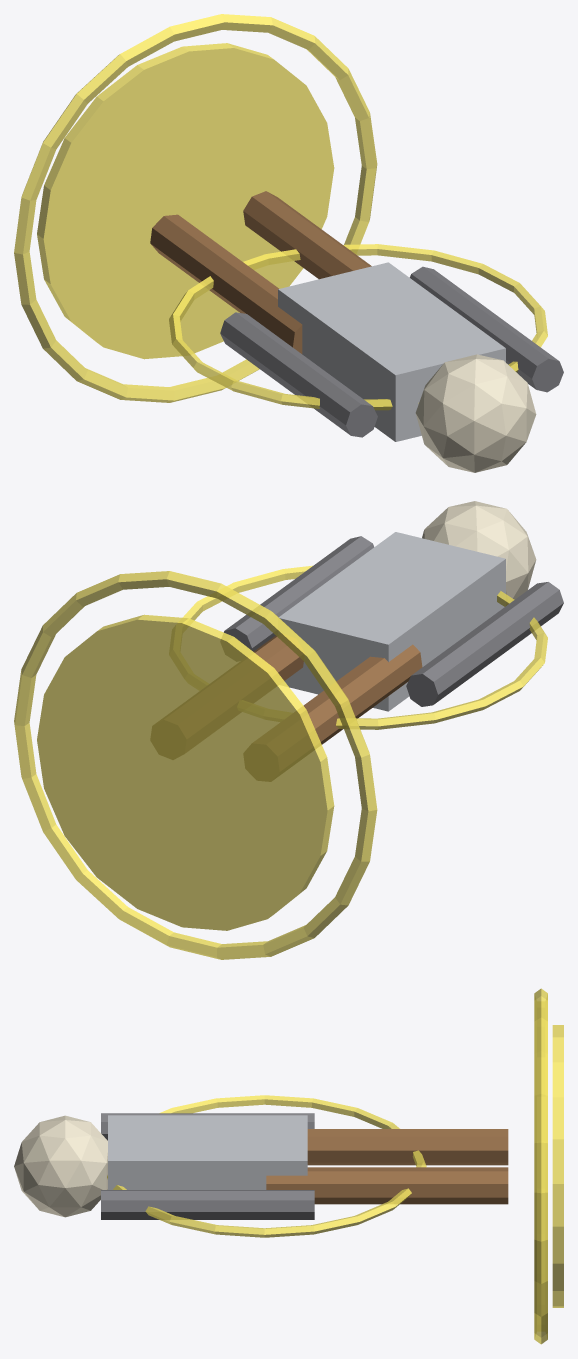
Rendered from monster_roar_pose.glb.
The picture shows the model from 3 angles, top to bottom: view 1: azimuth 30°, elevation 25°; view 2: azimuth 150°, elevation 25°; view 3: azimuth 270°, elevation 25°; orthographic projection. The views are drawn at different scales.
Visible parts, largest first — view 1: marker_disc, torso, marker_ring, head, left_leg, motion_arc, left_arm, right_leg, right_arm; view 2: marker_disc, torso, marker_ring, left_arm, head, motion_arc, left_leg, right_arm, right_leg; view 3: torso, right_leg, head, left_leg, right_arm, motion_arc, marker_ring, marker_disc, left_arm.
Part boxes in pixels (<box>): marker_disc: <box>37,43,334,359</box>; torso: <box>278,262,505,441</box>; marker_ring: <box>14,14,377,402</box>; head: <box>415,354,536,472</box>; left_leg: <box>150,214,302,353</box>; motion_arc: <box>169,244,547,410</box>; left_arm: <box>220,312,377,437</box>; right_leg: <box>243,191,371,279</box>; right_arm: <box>409,266,563,392</box>; marker_disc: <box>37,614,334,930</box>; torso: <box>278,532,505,711</box>; marker_ring: <box>14,571,377,959</box>; left_arm: <box>406,582,563,706</box>; head: <box>422,501,536,599</box>; motion_arc: <box>183,565,547,729</box>; left_leg: <box>303,644,422,744</box>; right_arm: <box>224,536,373,651</box>; right_leg: <box>253,635,303,680</box>; torso: <box>108,1115,307,1189</box>; right_leg: <box>266,1167,508,1204</box>; head: <box>14,1115,107,1217</box>; left_leg: <box>307,1129,508,1165</box>; right_arm: <box>101,1190,314,1219</box>; motion_arc: <box>107,1095,426,1237</box>; marker_ring: <box>534,988,547,1344</box>; marker_disc: <box>552,1025,563,1307</box>; left_arm: <box>101,1113,314,1140</box>.
Bounding box in the file's own units: 1.25 × 1.24 × 1.93.
